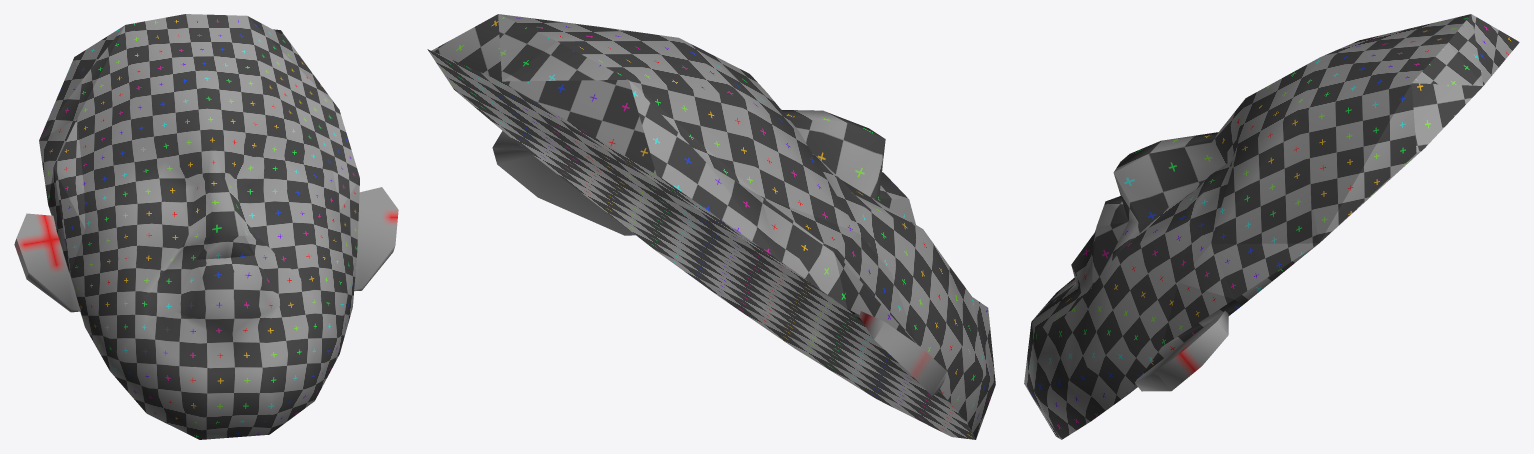
Rendered from faceLoop.fbx.
3 renders of one model, left to right at view 1: azimuth 30°, elevation 25°; view 2: azimuth 150°, elevation 25°; view 3: azimuth 270°, elevation 25°, orthographic. The views are drawn at different scales.
Visible parts, largest first — view 1: kawashima_color; view 2: kawashima_color; view 3: kawashima_color.
Boxes of the visible parts, bbox=[...] form: kawashima_color: bbox=[14, 14, 398, 439]; kawashima_color: bbox=[427, 14, 995, 439]; kawashima_color: bbox=[1024, 14, 1519, 439].
Bounding box in the file's own units: 1549 × 1411 × 1472.
Materials: 1 (1 with a texture image).
